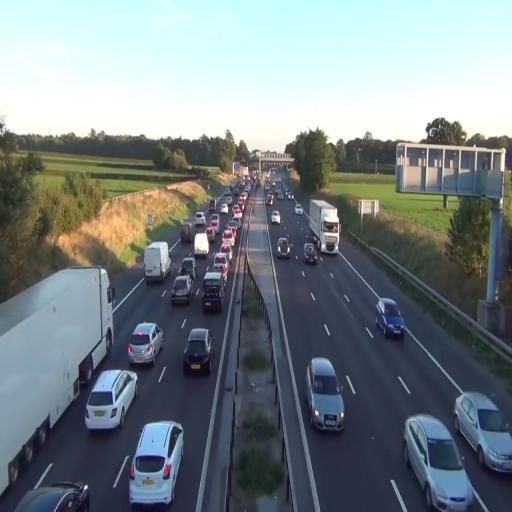vehicle: (0, 266, 116, 500), (404, 412, 476, 511), (454, 390, 512, 474), (129, 420, 184, 508), (84, 368, 138, 432), (305, 357, 346, 433), (13, 480, 90, 512), (308, 198, 340, 256), (128, 321, 163, 365), (183, 327, 213, 375), (375, 298, 405, 340), (144, 240, 171, 284), (201, 269, 223, 314), (171, 276, 192, 305), (304, 240, 317, 263), (277, 237, 291, 257), (271, 211, 281, 225)
